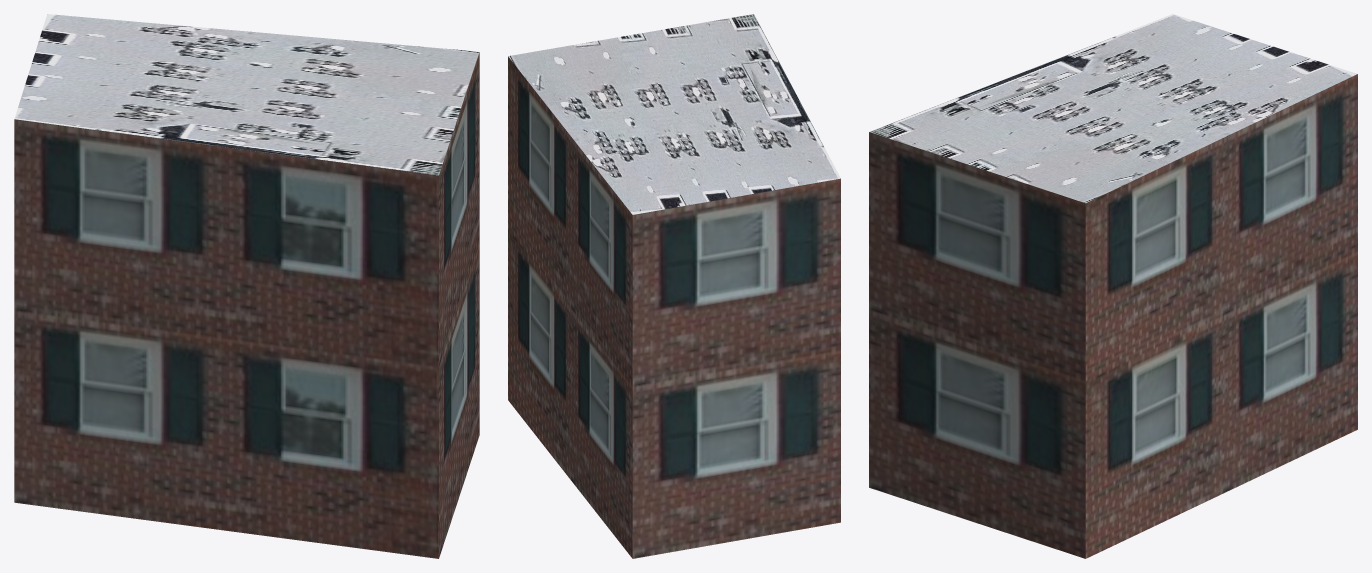
Rendered from ResTex__3535.fbx.
The picture shows the model from 3 angles, left to right: view 1: azimuth 30°, elevation 25°; view 2: azimuth 150°, elevation 25°; view 3: azimuth 270°, elevation 25°; orthographic projection. The views are drawn at different scales.
Parts seen in each view (by area): view 1: CityEngineMaterial_14_m, CityEngineMaterial_4_m; view 2: CityEngineMaterial_14_m, CityEngineMaterial_4_m; view 3: CityEngineMaterial_14_m, CityEngineMaterial_4_m.
Part boxes in pixels (box(x1,y1,x2,y2)): CityEngineMaterial_14_m: box(14, 52, 479, 558); CityEngineMaterial_4_m: box(14, 14, 479, 175); CityEngineMaterial_14_m: box(508, 56, 840, 558); CityEngineMaterial_4_m: box(508, 14, 840, 214); CityEngineMaterial_14_m: box(869, 74, 1357, 558); CityEngineMaterial_4_m: box(870, 14, 1357, 203).
Size of the model in its own units: 6.85 by 6 by 7.47.
2 materials, 2 textured.
